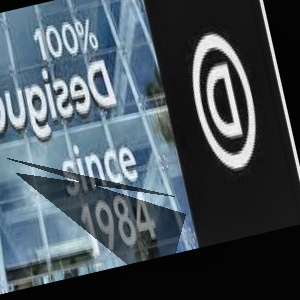desigual: (111, 20, 130, 78)
